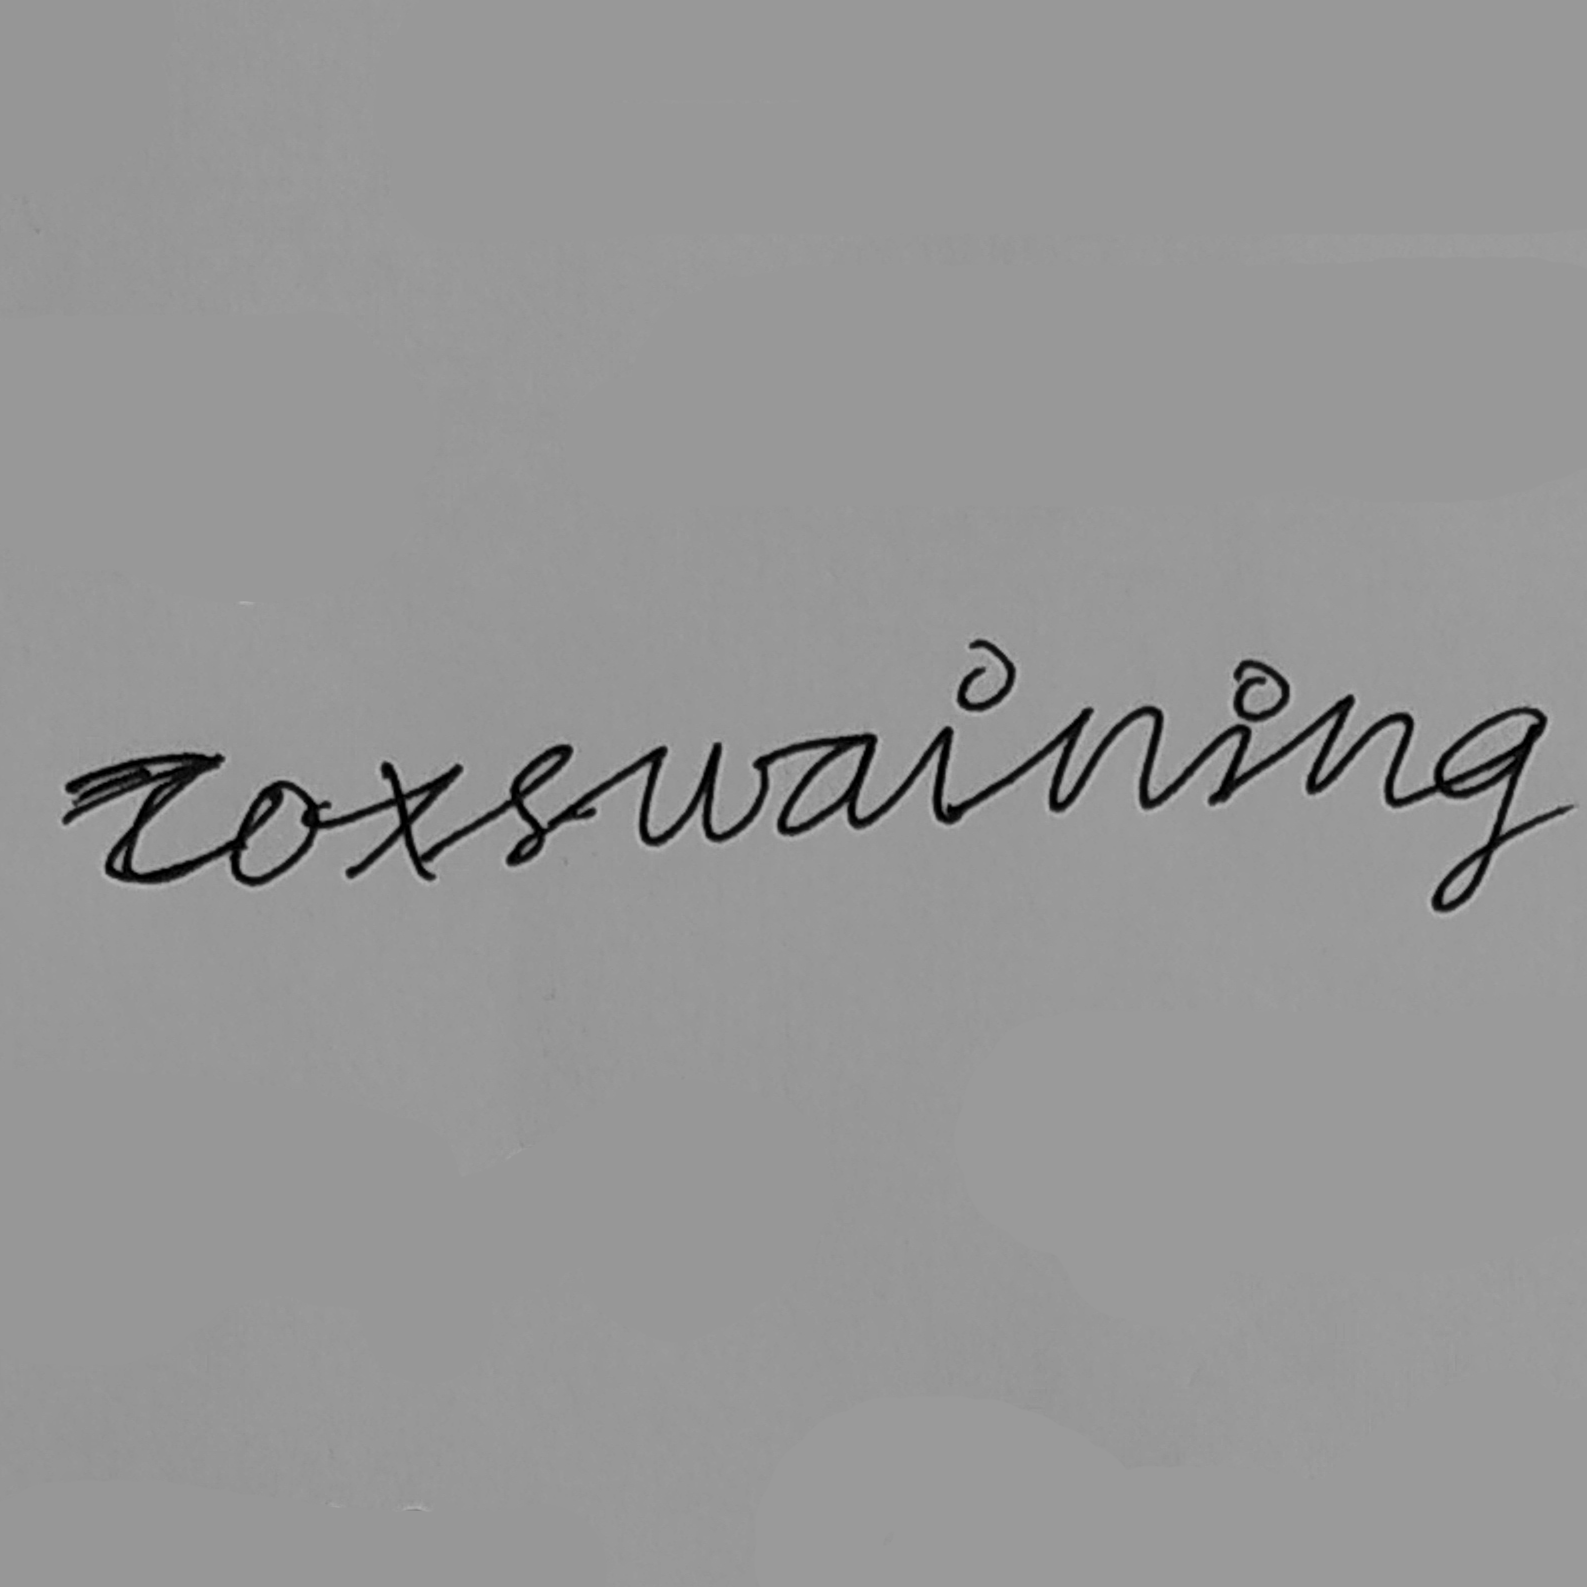a: (776, 728, 882, 841)
c: (100, 748, 227, 887)
g: (1426, 703, 1549, 916)
i: (921, 637, 1022, 831), (1200, 655, 1291, 809)
n: (1043, 699, 1168, 821), (1302, 689, 1416, 814)
o: (230, 776, 323, 892)
s: (496, 741, 578, 868)
w: (634, 738, 775, 850)
x: (342, 751, 467, 888)
